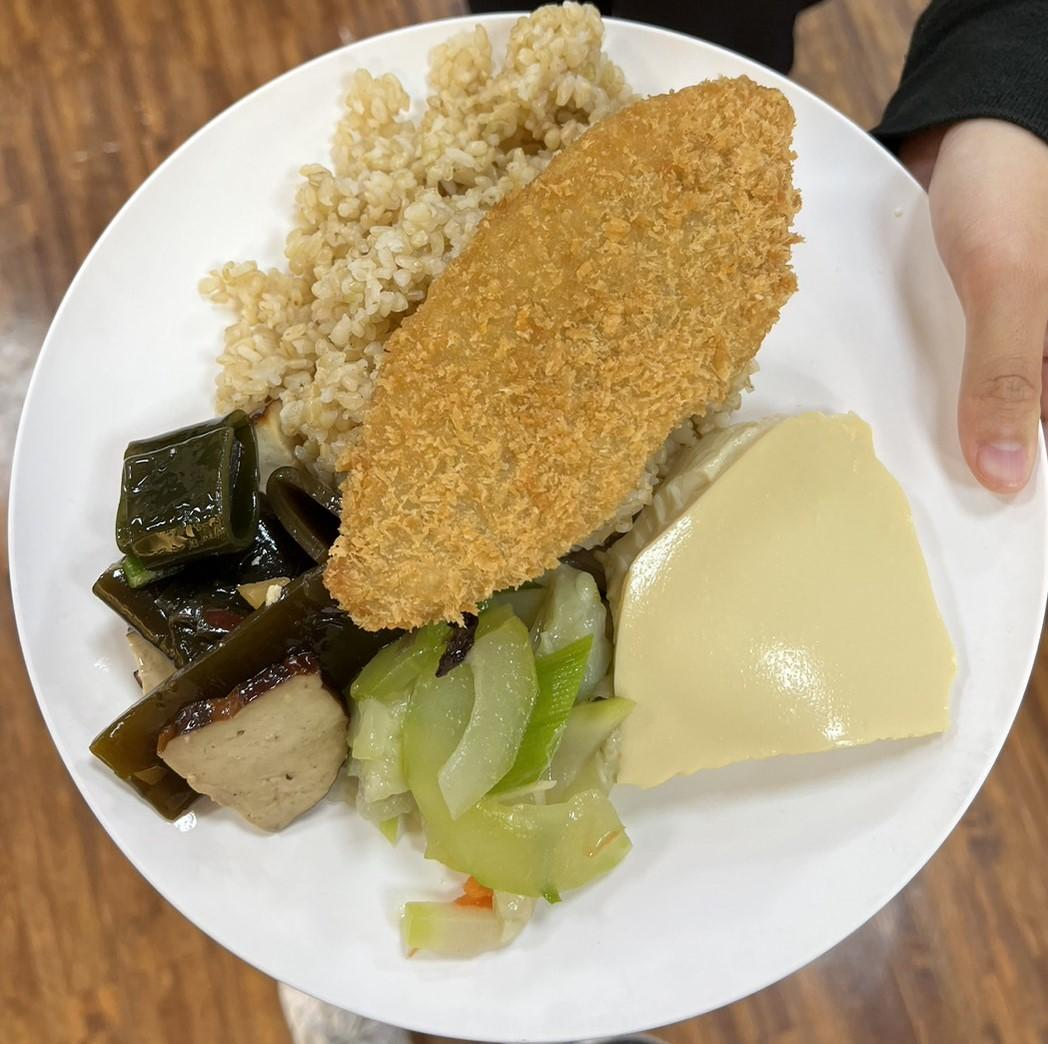big fried chicken leg: (16, 0, 1048, 1039)
box: (208, 0, 630, 435)
braised fish fillet: (612, 403, 958, 799), (86, 412, 386, 835), (340, 555, 628, 963)
braised pork: (312, 76, 800, 633)
